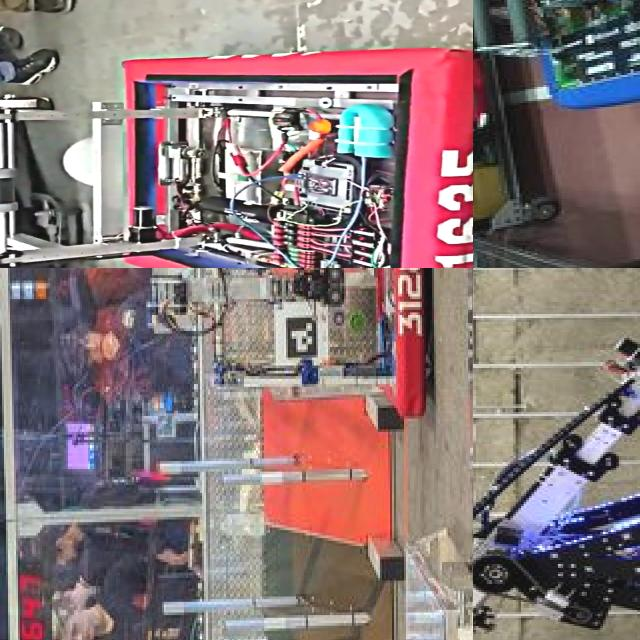FRC-Robots: (0, 31, 473, 268), (473, 287, 640, 640), (175, 268, 429, 436), (473, 0, 640, 172)
